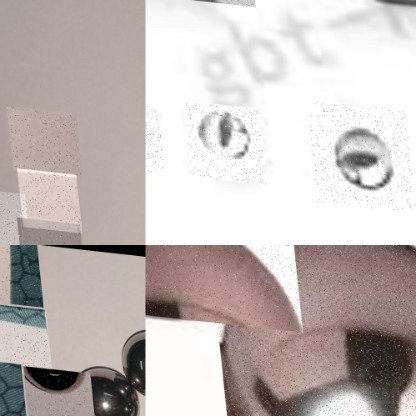ironball: (205, 245, 415, 415), (145, 245, 300, 325), (303, 93, 410, 204), (179, 97, 261, 180), (3, 103, 77, 173), (12, 165, 76, 229), (20, 360, 93, 415), (0, 300, 49, 371), (78, 361, 137, 414), (0, 245, 42, 301), (11, 215, 79, 245), (121, 324, 146, 400), (0, 185, 25, 245), (0, 352, 23, 415)
